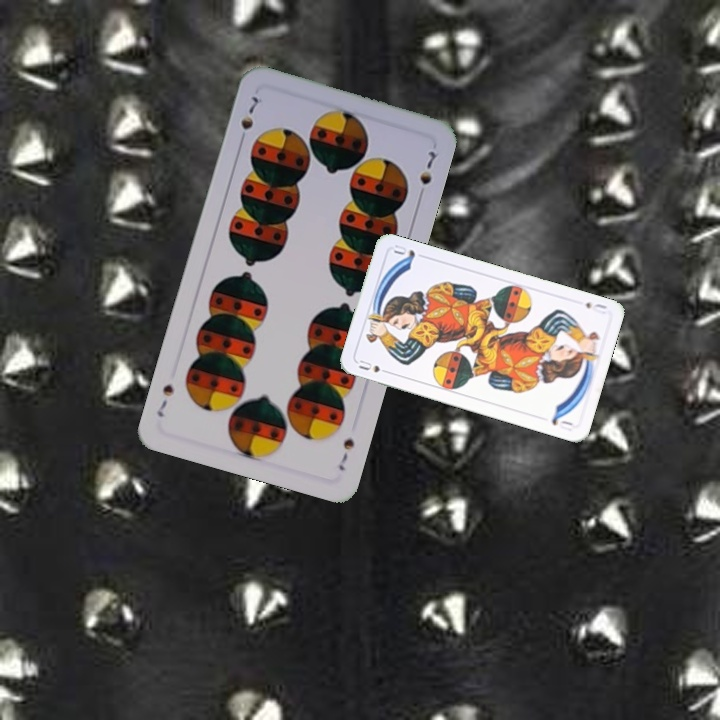S7: (235, 91, 263, 147), (334, 434, 357, 474)
SU: (355, 356, 394, 377), (581, 298, 610, 317)
